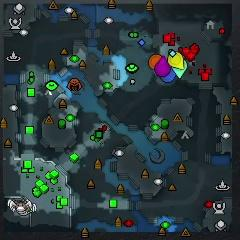p1: (160, 68, 176, 83)
p2: (171, 60, 188, 78)
p3: (155, 56, 169, 77)
p4: (168, 51, 184, 70)
p5: (149, 54, 163, 69)
